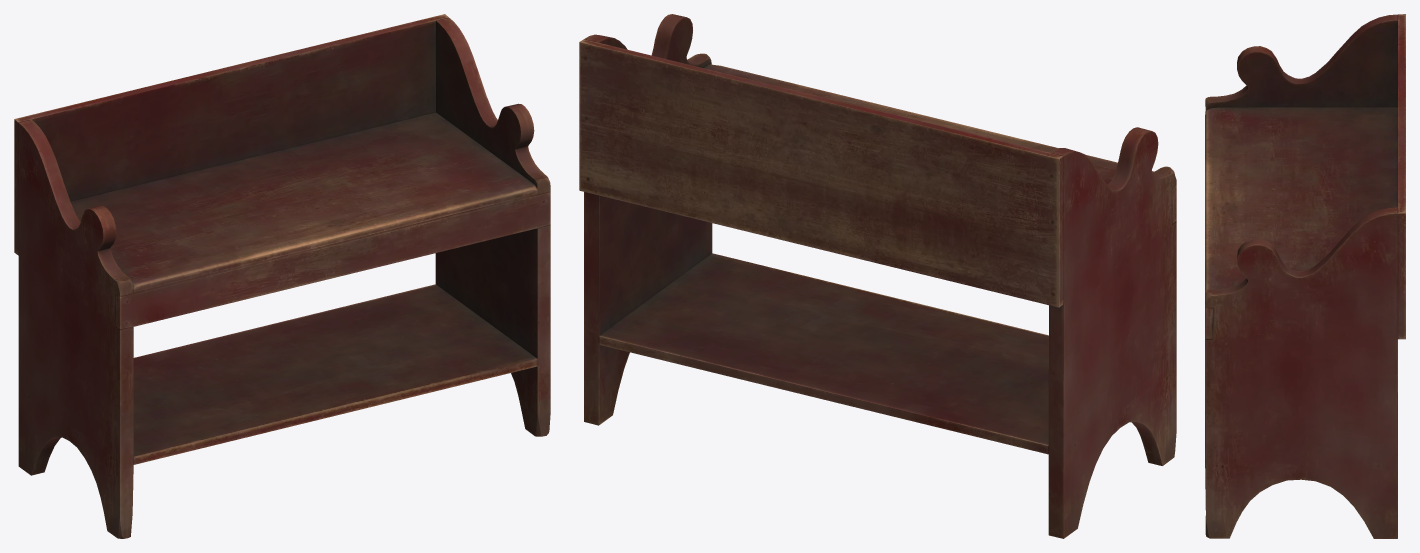
The model's file is painted_wooden_bench.gltf.
3 renders of one model, left to right at view 1: azimuth 30°, elevation 25°; view 2: azimuth 150°, elevation 25°; view 3: azimuth 270°, elevation 25°, orthographic. The views are drawn at different scales.
Parts seen in each view (by area): view 1: painted_wooden_bench; view 2: painted_wooden_bench; view 3: painted_wooden_bench.
Boxes of the visible parts, bbox=[...] form: painted_wooden_bench: bbox=[14, 14, 550, 538]; painted_wooden_bench: bbox=[579, 14, 1176, 538]; painted_wooden_bench: bbox=[1205, 14, 1405, 538].
Bounding box in the file's own units: 1.16 × 0.8893 × 0.4965.
1 material, 1 textured.
